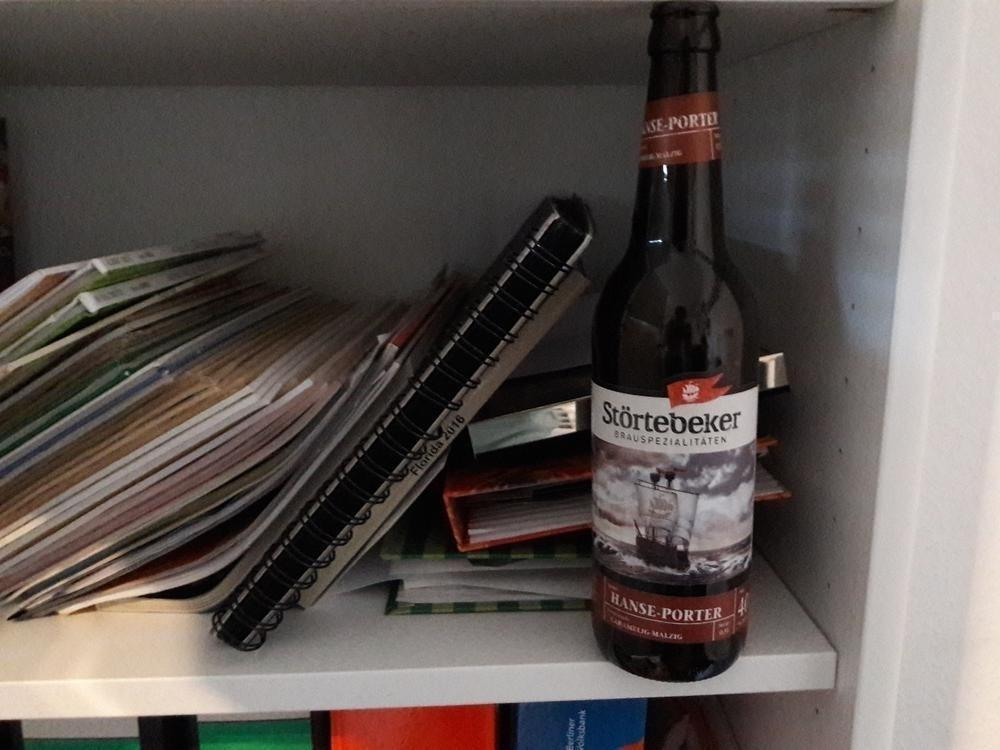bottle-glass: (588, 1, 761, 682)
